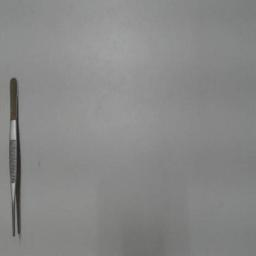Gillies Toothed Dissector: (9, 72, 21, 242)
